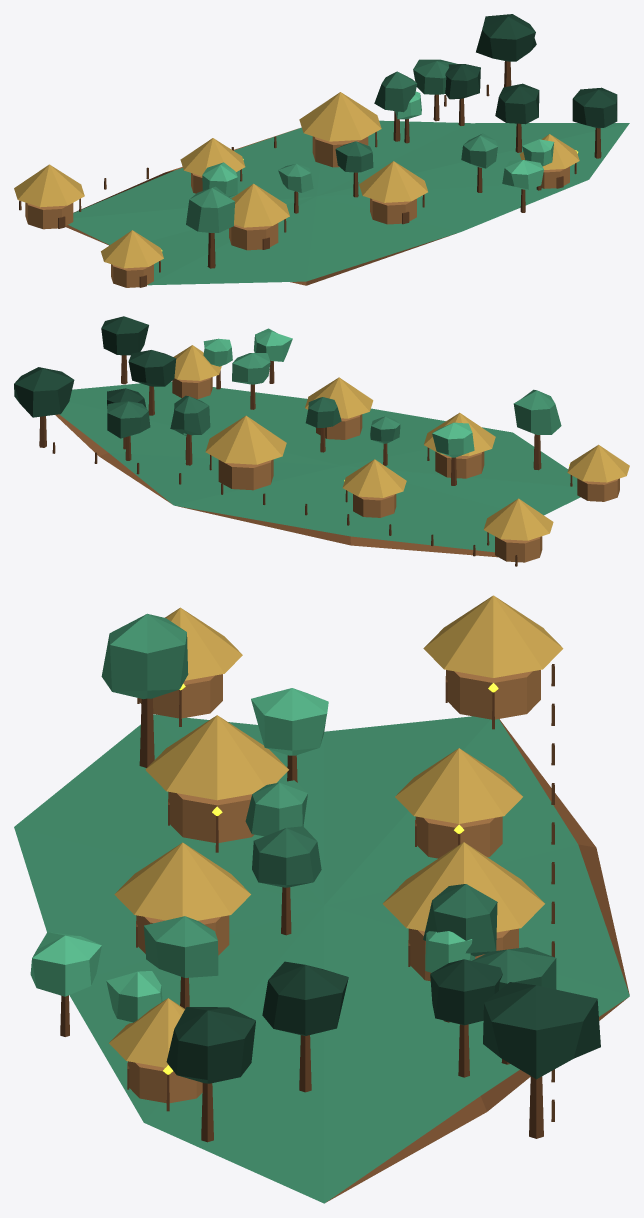
Rendered from W3_Mid_Village.fbx.
The picture shows the model from 3 angles, top to bottom: view 1: azimuth 30°, elevation 25°; view 2: azimuth 150°, elevation 25°; view 3: azimuth 270°, elevation 25°; orthographic projection. The views are drawn at different scales.
Parts seen in each view (by area): view 1: W3_Mid_Village; view 2: W3_Mid_Village; view 3: W3_Mid_Village.
Boxes of the visible parts, x1,y1,x2,y2 form: W3_Mid_Village: [14, 14, 629, 287]; W3_Mid_Village: [14, 316, 629, 566]; W3_Mid_Village: [14, 595, 629, 1203].
Bounding box in the file's own units: 120 × 17.82 × 59.17.
